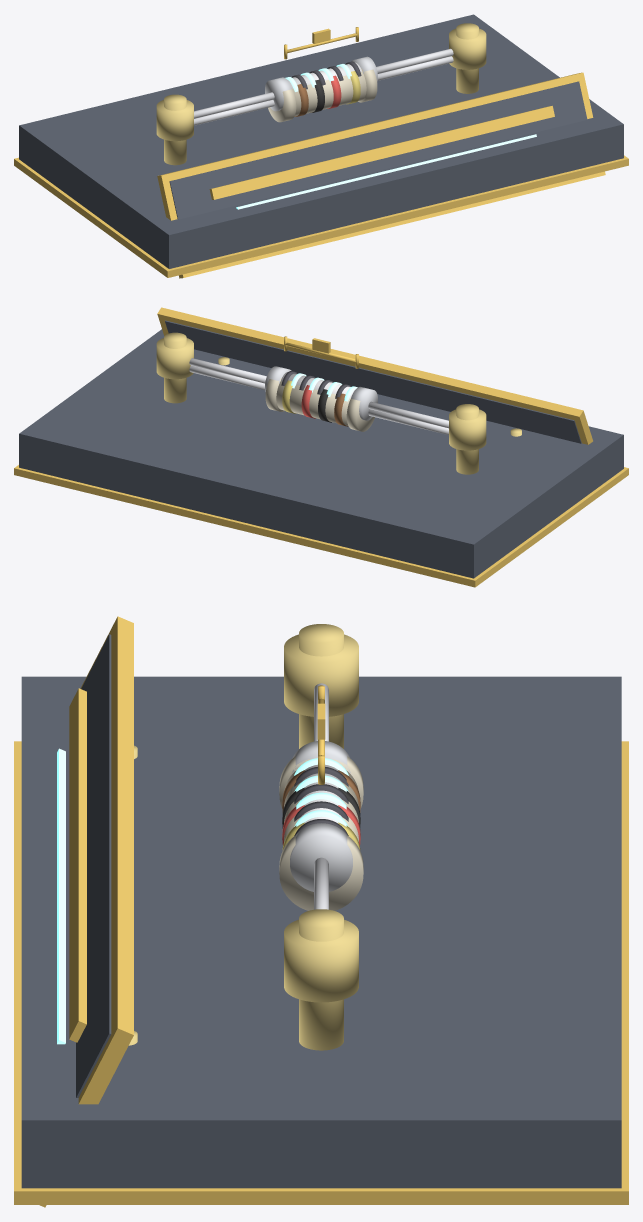
The model's file is resistor.glb.
3 views of the same model, one above another, from view 1: azimuth 30°, elevation 25°; view 2: azimuth 150°, elevation 25°; view 3: azimuth 270°, elevation 25° (orthographic). The views are drawn at different scales.
Visible parts, largest first — view 1: res_full_plinth, res_sec_plaque_face, res_sec_plaque_trim, res_full_plinth_rim, res_sec_title_bar, res_full_nut_left, res_full_nut_right, res_full_body, res_sec_sub1, res_full_post_right, res_full_post_left, res_sec_lead_l (+6 smaller); view 2: res_full_plinth, res_sec_plaque_face, res_full_plinth_rim, res_sec_plaque_trim, res_full_nut_left, res_full_nut_right, res_full_body, res_full_post_left, res_full_post_right, res_sec_lead_l, res_sec_lead_r, res_full_lead_l (+3 smaller); view 3: res_full_plinth, res_full_plinth_rim, res_sec_plaque_trim, res_sec_plaque_face, res_sec_title_bar, res_full_nut_right, res_full_nut_left, res_full_post_right, res_sec_end_cap_r, res_sec_sub1, res_full_collar_r, res_full_post_left (+2 smaller).
Boxes of the visible parts, x1,y1,x2,y2 form: res_full_plinth: (19, 14, 623, 268); res_sec_plaque_face: (169, 81, 587, 219); res_sec_plaque_trim: (157, 72, 605, 278); res_full_plinth_rim: (14, 155, 628, 277); res_sec_title_bar: (209, 105, 554, 199); res_full_nut_left: (156, 100, 193, 141); res_full_nut_right: (449, 28, 486, 69); res_full_body: (292, 72, 366, 116); res_sec_sub1: (236, 134, 536, 209); res_full_post_right: (456, 23, 478, 93); res_full_post_left: (164, 94, 186, 165); res_sec_lead_l: (194, 92, 274, 118); res_full_plinth: (19, 329, 623, 578); res_sec_plaque_face: (165, 320, 581, 443); res_full_plinth_rim: (14, 465, 628, 587); res_sec_plaque_trim: (157, 307, 592, 444); res_full_nut_left: (449, 409, 486, 450); res_full_nut_right: (156, 338, 193, 379); res_full_body: (276, 381, 350, 425); res_full_post_left: (456, 404, 478, 474); res_full_post_right: (164, 332, 186, 403); res_sec_lead_l: (368, 401, 448, 428); res_sec_lead_r: (189, 358, 266, 383); res_full_lead_l: (368, 409, 448, 434); res_full_plinth: (21, 676, 621, 1188); res_full_plinth_rim: (14, 741, 628, 1204); res_sec_plaque_trim: (39, 616, 133, 1207); res_sec_plaque_face: (76, 634, 111, 1097); res_sec_title_bar: (69, 688, 86, 1042); res_full_nut_right: (284, 919, 358, 1002); res_full_nut_left: (284, 634, 358, 716); res_full_post_right: (299, 909, 343, 1050); res_sec_end_cap_r: (290, 823, 352, 891); res_sec_sub1: (57, 748, 65, 1044); res_full_collar_r: (279, 835, 363, 910); res_full_post_left: (299, 624, 343, 748).
Bounding box in the file's own units: 0.142 × 0.0427 × 0.082.
